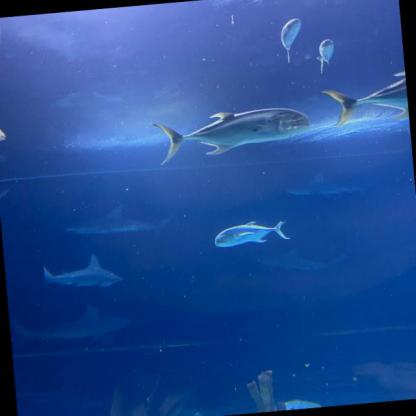fish: (152, 104, 310, 166), (318, 70, 409, 128), (213, 218, 289, 248), (280, 18, 304, 63), (316, 38, 335, 73)
shark: (10, 300, 131, 347), (64, 199, 172, 243), (39, 251, 122, 292), (288, 167, 374, 200), (256, 246, 345, 276)
